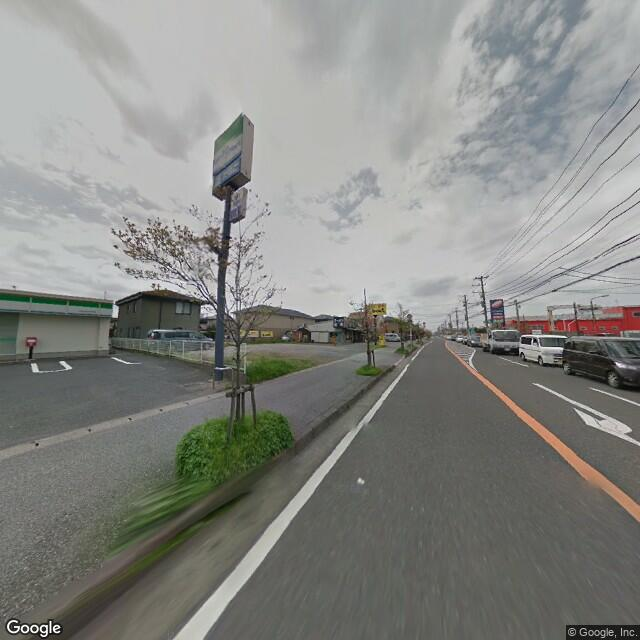family_mart: (1, 291, 114, 319), (213, 113, 246, 180)
